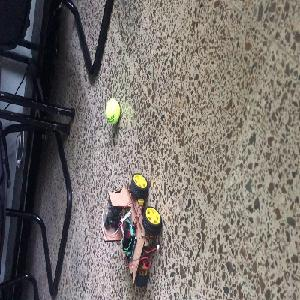Ball: (103, 99, 121, 125)
Robot: (100, 174, 162, 286)
